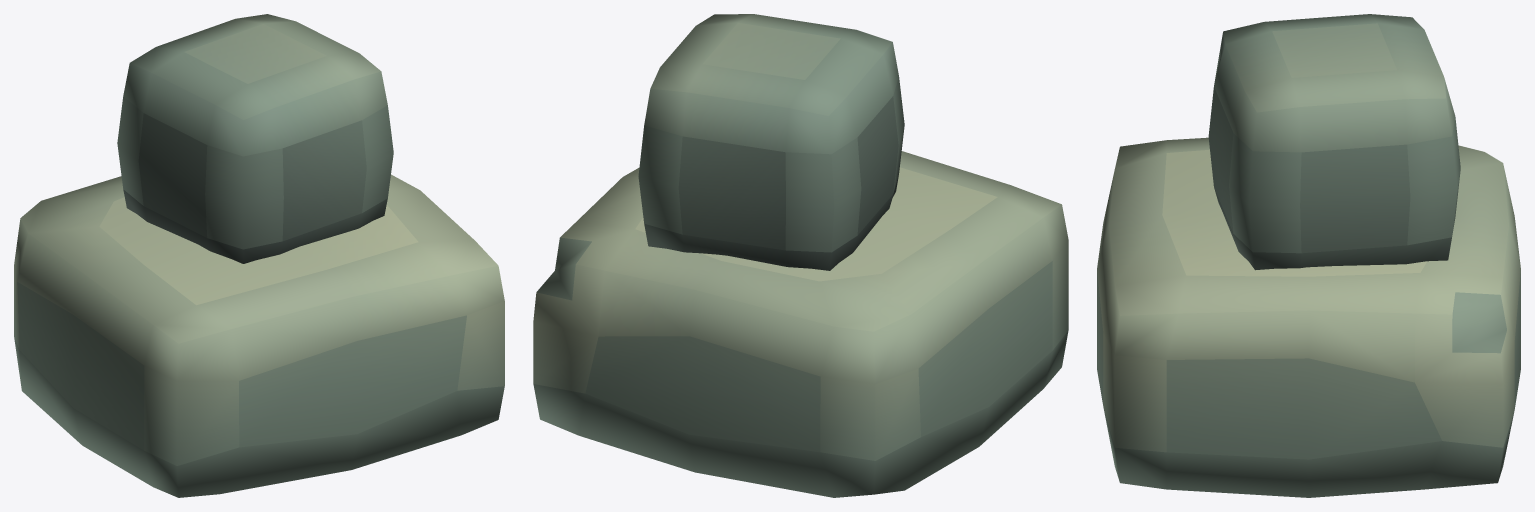
File: rail5_stone1_LOD_group.fbx
3 views of the same model, side by side, from view 1: azimuth 30°, elevation 25°; view 2: azimuth 150°, elevation 25°; view 3: azimuth 270°, elevation 25° (orthographic). The views are drawn at different scales.
Visible parts, largest first — view 1: rail5_stone1_LOD0; view 2: rail5_stone1_LOD0; view 3: rail5_stone1_LOD0.
Part boxes in pixels (left/top/right/bottom): rail5_stone1_LOD0: left=14, top=14, right=504, bottom=497; rail5_stone1_LOD0: left=533, top=14, right=1068, bottom=497; rail5_stone1_LOD0: left=1097, top=14, right=1520, bottom=497.
Size of what is drawn, in the model's own units: 59.95 by 56.84 by 57.03.
Materials: 1 (1 with a texture image).
